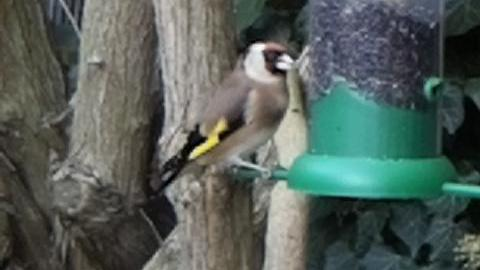goldfinch: (147, 34, 301, 197)
